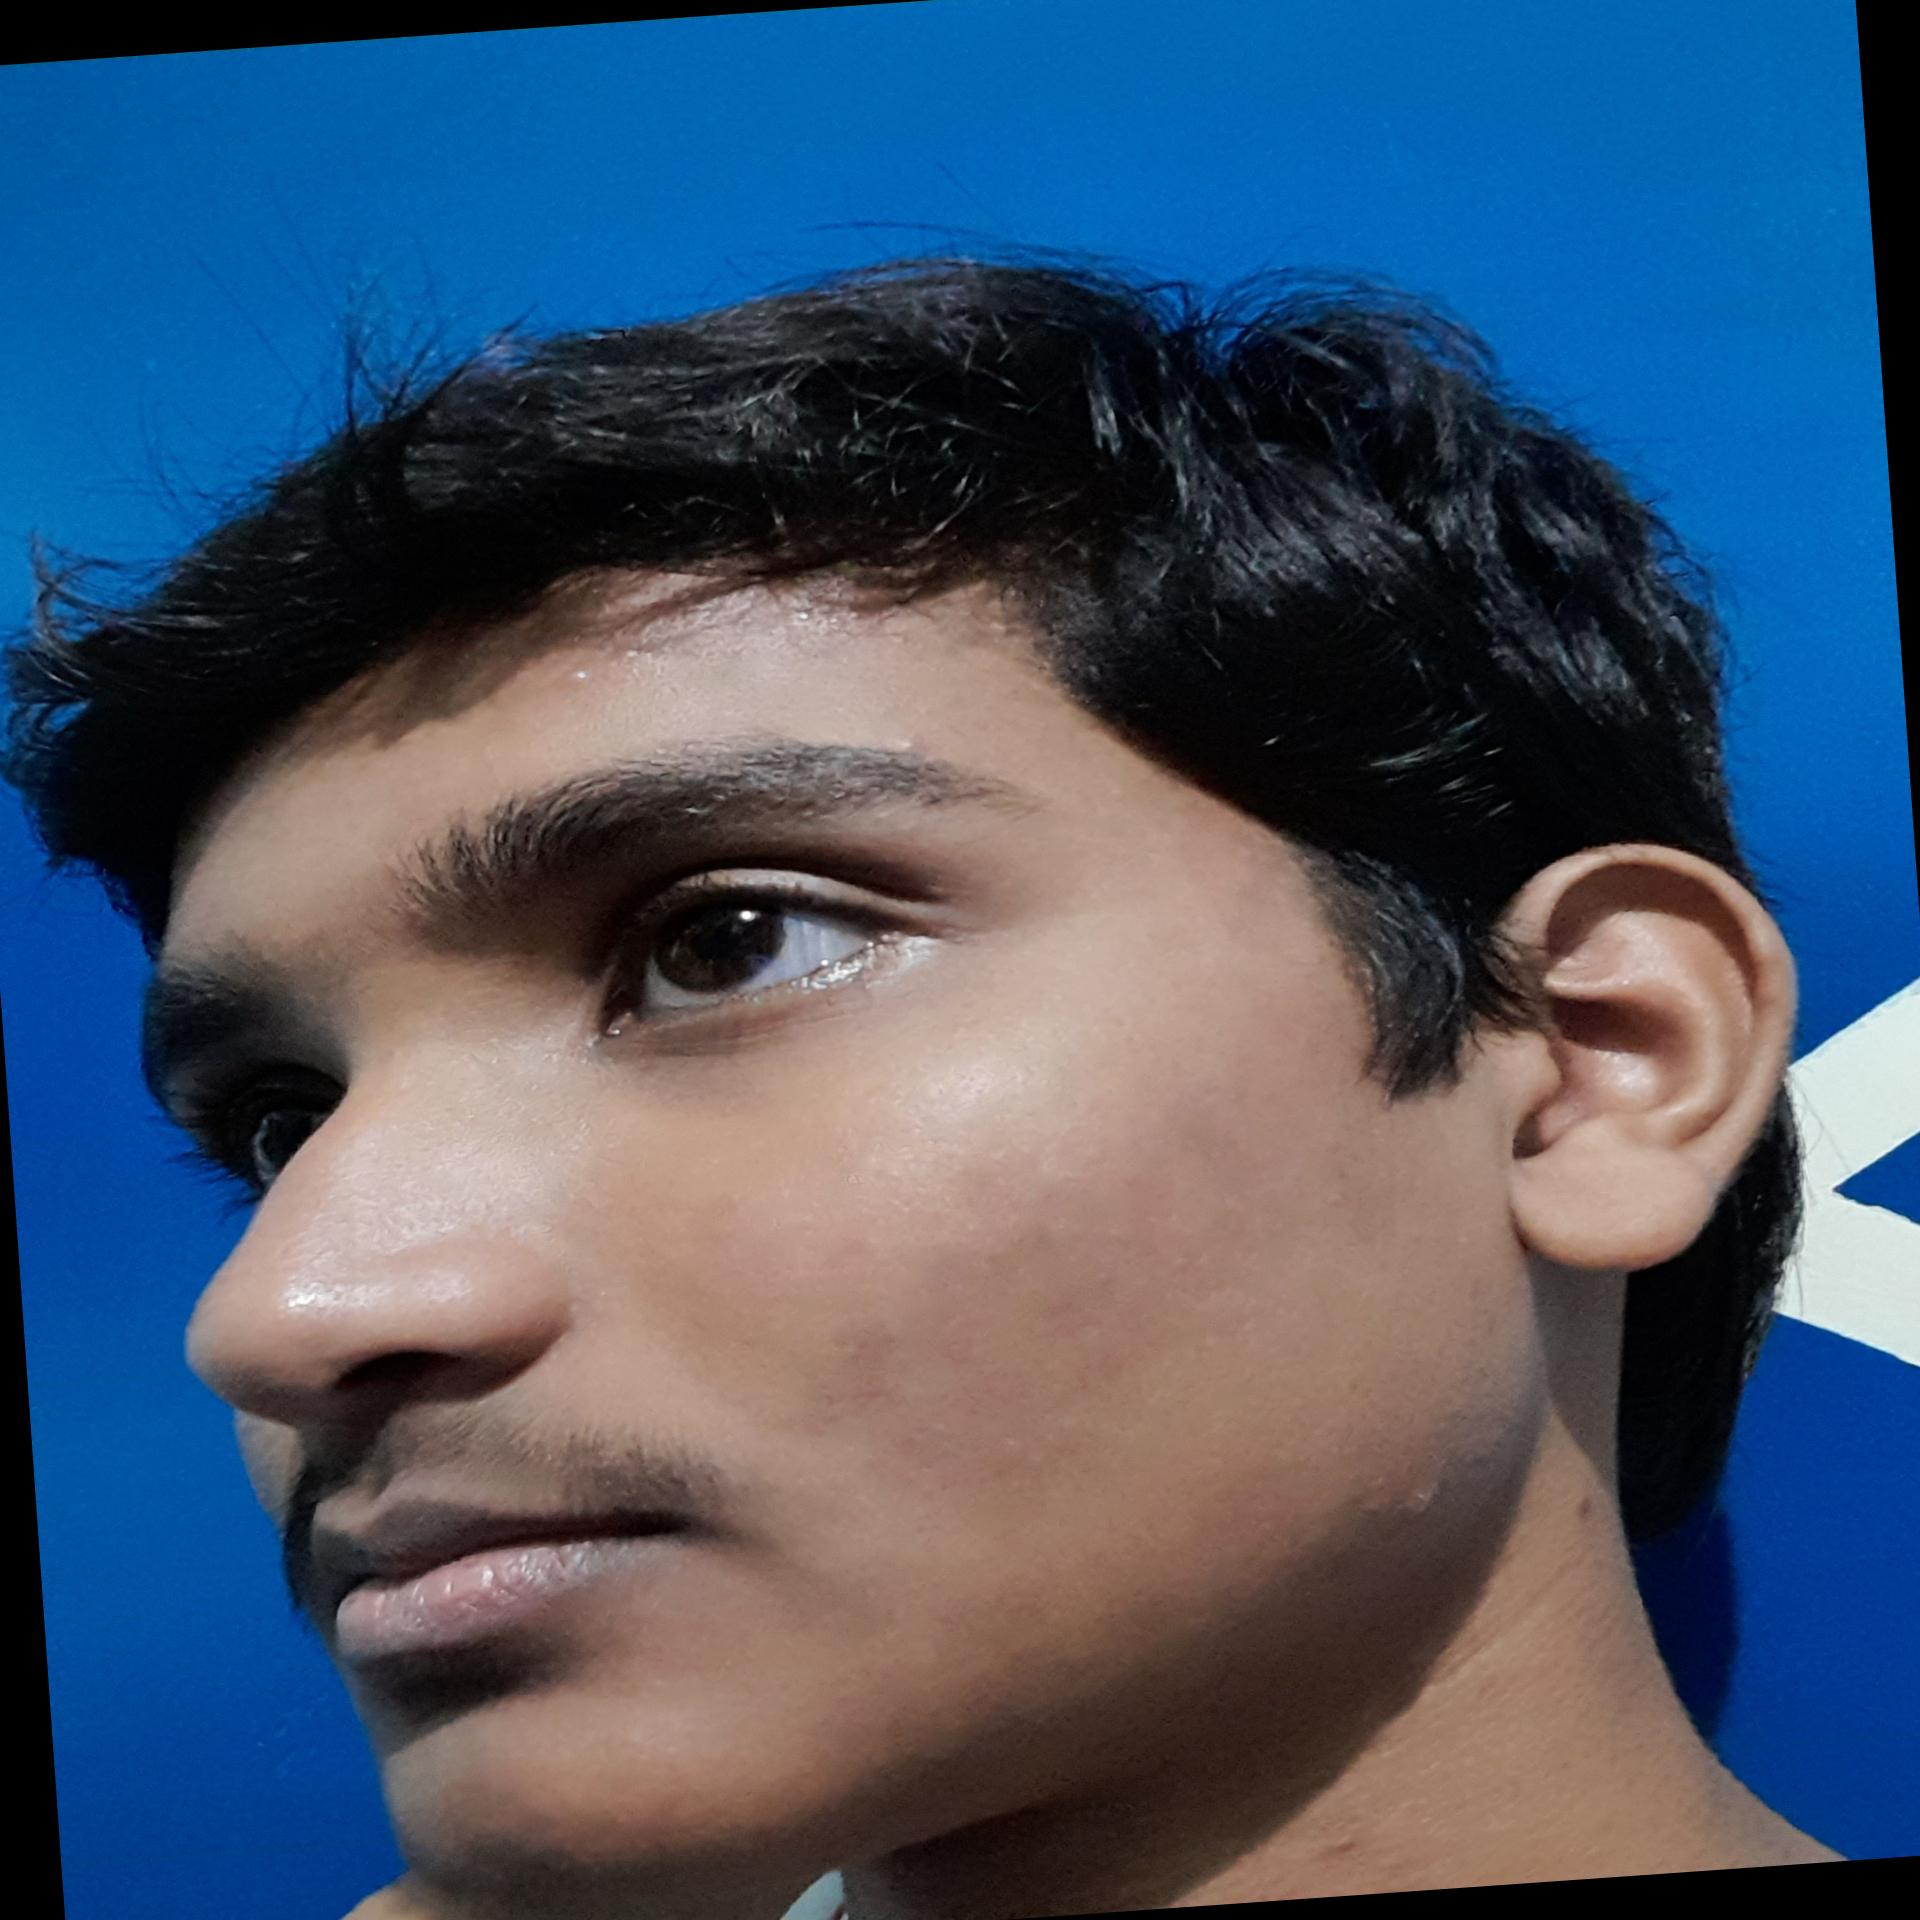Acne: (1387, 1470, 1482, 1523), (886, 724, 935, 767), (615, 1720, 663, 1762), (598, 1800, 651, 1834), (554, 666, 594, 691)
